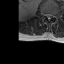CCS_normal: (47, 11, 50, 23)
LFS_stenosis: (52, 13, 54, 19)
LLS_normal: (50, 12, 52, 20)
RFS_normal: (43, 10, 45, 18)
RLS_normal: (45, 11, 47, 19)
